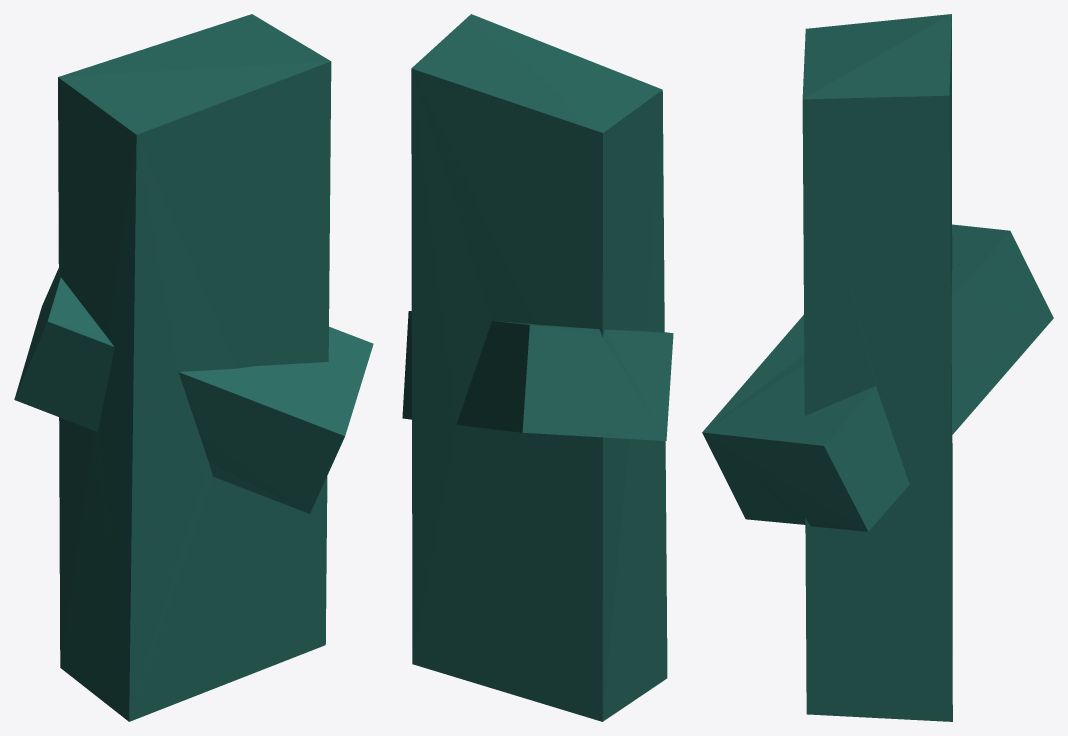
The picture shows the model from 3 angles, left to right: view 1: azimuth 30°, elevation 25°; view 2: azimuth 150°, elevation 25°; view 3: azimuth 270°, elevation 25°; orthographic projection. The views are drawn at different scales.
Parts seen in each view (by area): view 1: 588_Cube.2365; view 2: 588_Cube.2365; view 3: 588_Cube.2365.
Part boxes in pixels (left/top/right/bottom): 588_Cube.2365: left=14, top=14, right=373, bottom=721; 588_Cube.2365: left=402, top=14, right=673, bottom=721; 588_Cube.2365: left=702, top=14, right=1053, bottom=721.
Size of the model in its own units: 6.7 by 12.74 by 6.26.
